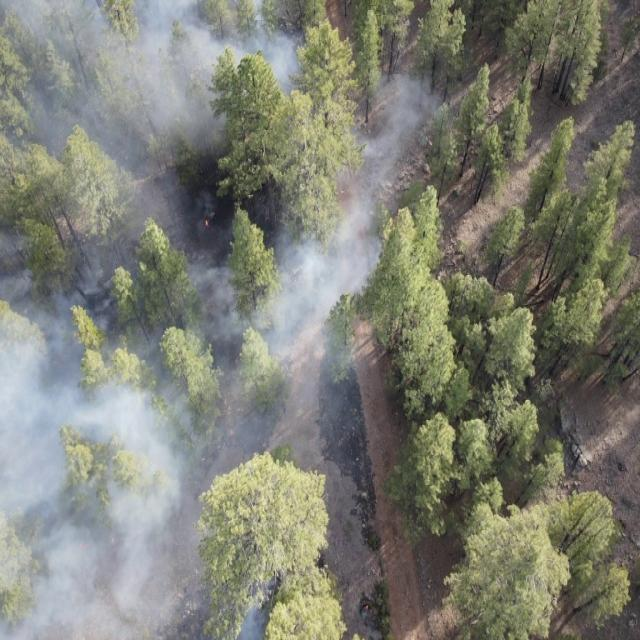fire: (361, 602, 371, 614), (203, 218, 212, 230)
smoke: (0, 0, 431, 320), (0, 322, 354, 640)
